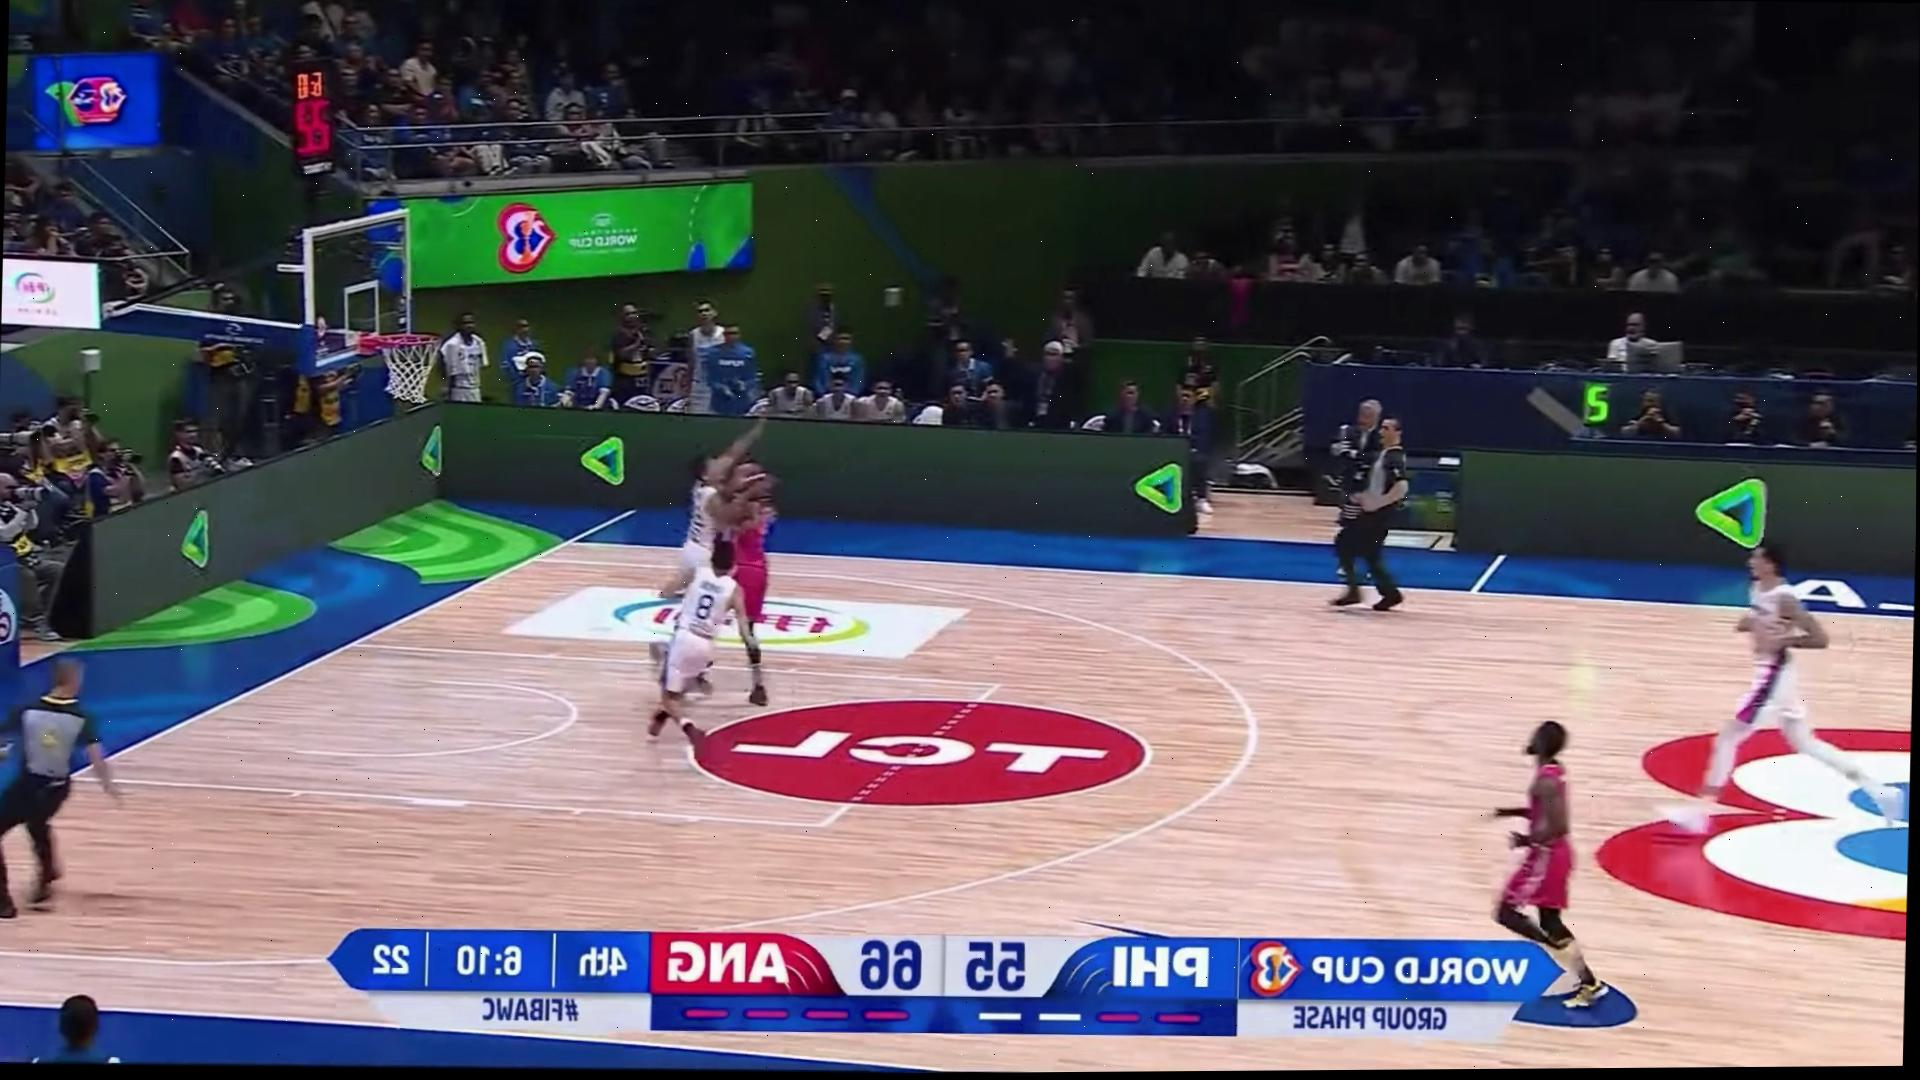foul: (620, 418, 819, 743)
